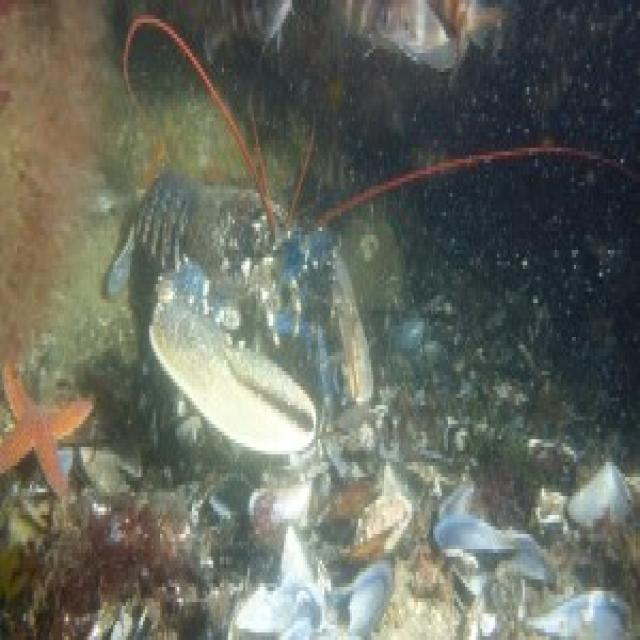lobsters: (99, 76, 418, 475)
